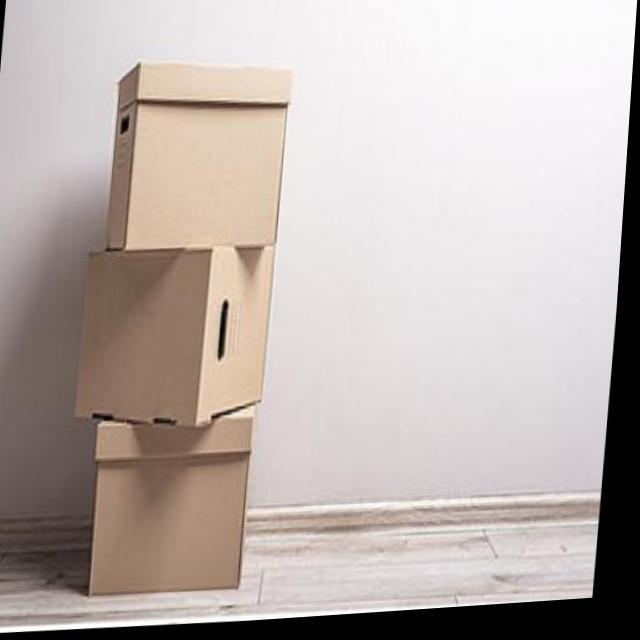box: (96, 43, 297, 269), (72, 238, 288, 447), (84, 415, 269, 611)
